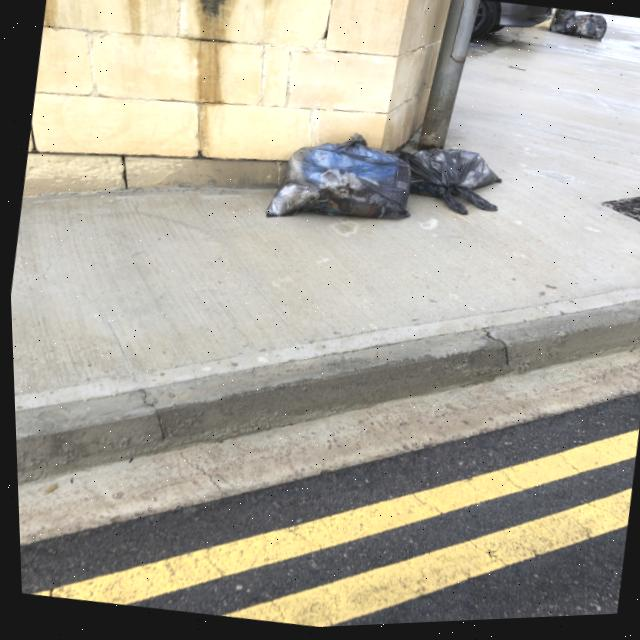Mixed Waste -Black Bag-: (261, 123, 421, 242), (384, 141, 508, 230), (564, 16, 609, 49), (546, 13, 578, 42)
